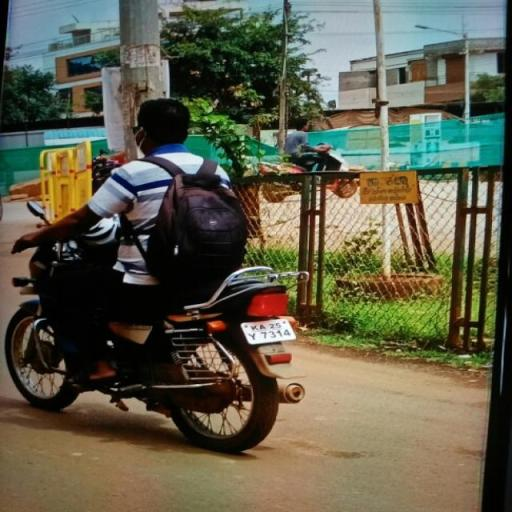bike: (9, 96, 317, 454)
numberplate: (240, 308, 299, 350)
withouthelmet: (139, 100, 190, 150)
